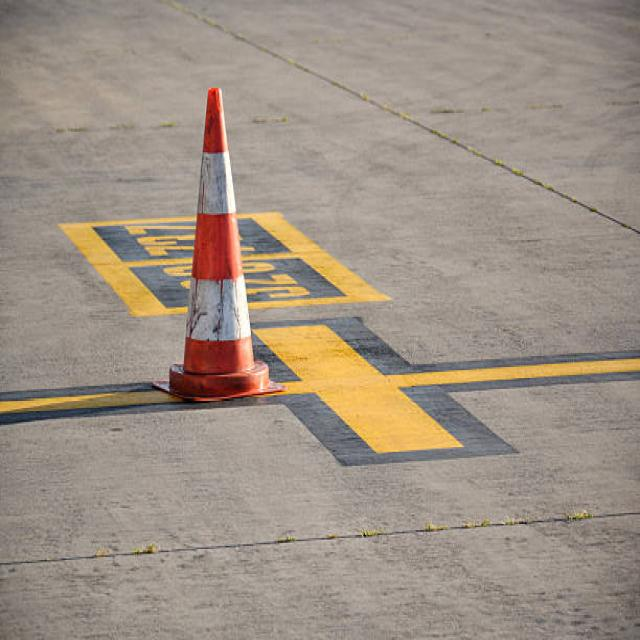Traffic Cone: (137, 59, 295, 427)
